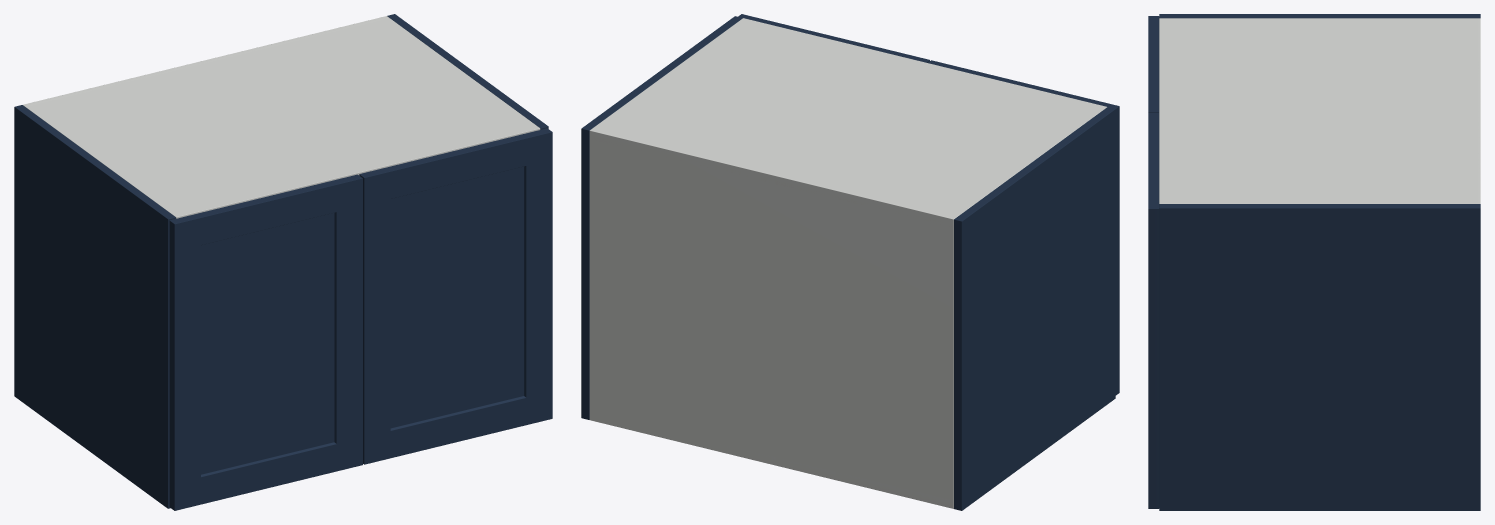
File: oppein-pb-bss-w332424.glb
3 views of the same model, side by side, from view 1: azimuth 30°, elevation 25°; view 2: azimuth 150°, elevation 25°; view 3: azimuth 270°, elevation 25° (orthographic). The views are drawn at different scales.
Visible parts, largest first — view 1: Door, Door.001, Cabinet top, Cabinet side, Cabinet side.001, Cabinet back; view 2: Cabinet back, Cabinet top, Cabinet side, Cabinet side.001, Door, Door.001, Cabinet bottom; view 3: Cabinet side.001, Cabinet top, Door.001, Cabinet side, Cabinet back, Door.
Boxes of the visible parts, x1=… form: Door: x1=169, y1=174, x2=362, y2=510; Door.001: x1=359, y1=128, x2=552, y2=464; Cabinet top: x1=23, y1=16, x2=540, y2=218; Cabinet side: x1=14, y1=105, x2=175, y2=508; Cabinet side.001: x1=387, y1=14, x2=548, y2=129; Cabinet back: x1=23, y1=16, x2=388, y2=106; Cabinet back: x1=589, y1=128, x2=956, y2=508; Cabinet top: x1=590, y1=18, x2=1106, y2=226; Cabinet side: x1=954, y1=107, x2=1115, y2=510; Cabinet side.001: x1=581, y1=16, x2=742, y2=419; Door: x1=928, y1=60, x2=1119, y2=395; Door.001: x1=738, y1=14, x2=929, y2=62; Cabinet bottom: x1=727, y1=446, x2=953, y2=508; Cabinet side.001: x1=1159, y1=204, x2=1480, y2=510; Cabinet top: x1=1159, y1=18, x2=1480, y2=203; Door.001: x1=1148, y1=113, x2=1159, y2=508; Cabinet side: x1=1159, y1=14, x2=1480, y2=18; Cabinet back: x1=1474, y1=18, x2=1480, y2=203; Door: x1=1148, y1=16, x2=1159, y2=112.
Size of the model in its own units: 0.8382 by 0.6096 by 0.6064.
